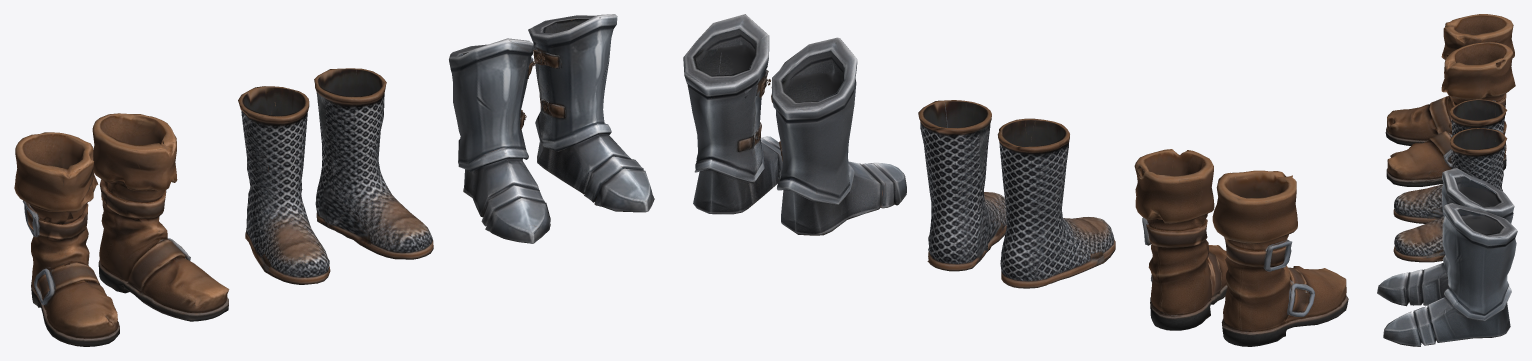
File: boots.glb
3 views of the same model, side by side, from view 1: azimuth 30°, elevation 25°; view 2: azimuth 150°, elevation 25°; view 3: azimuth 270°, elevation 25° (orthographic). The views are drawn at different scales.
Size of the model in its own units: 0.9561 by 0.2622 by 0.2524.
Materials: 1 (1 with a texture image).
